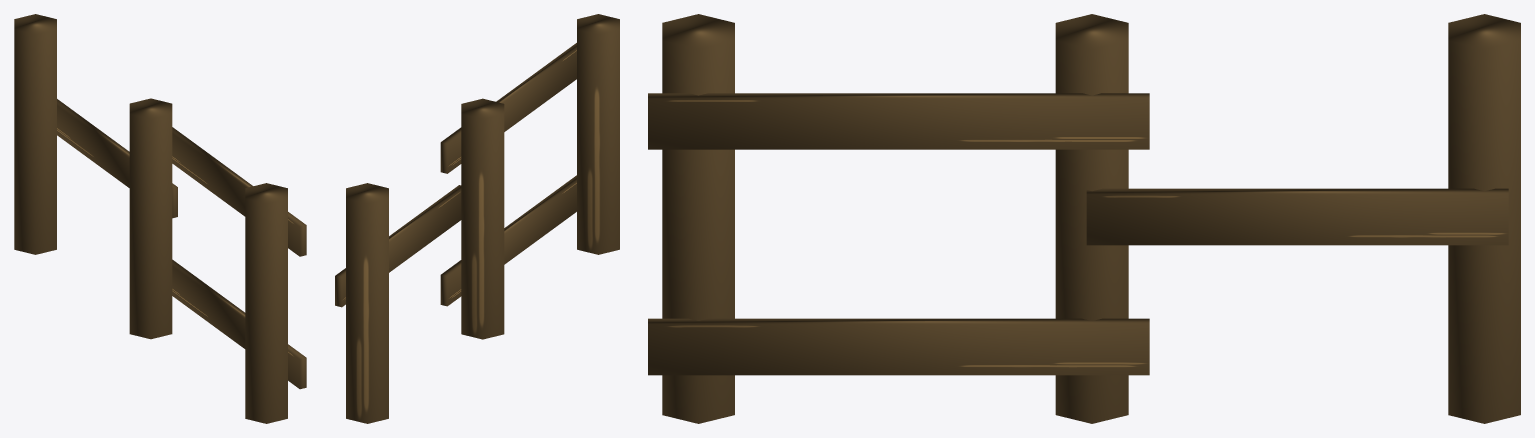
File: pager.fbx
3 views of the same model, side by side, from view 1: azimuth 30°, elevation 25°; view 2: azimuth 150°, elevation 25°; view 3: azimuth 270°, elevation 25° (orthographic). The views are drawn at different scales.
Visible parts, largest first — view 1: pager.001; view 2: pager.001; view 3: pager.001.
Boxes of the visible parts, bbox=[...] form: pager.001: bbox=[14, 14, 306, 423]; pager.001: bbox=[335, 14, 619, 423]; pager.001: bbox=[648, 14, 1520, 423].
Bounding box in the file's own units: 70.11 × 315 × 666.
Materials: 1 (1 with a texture image).
